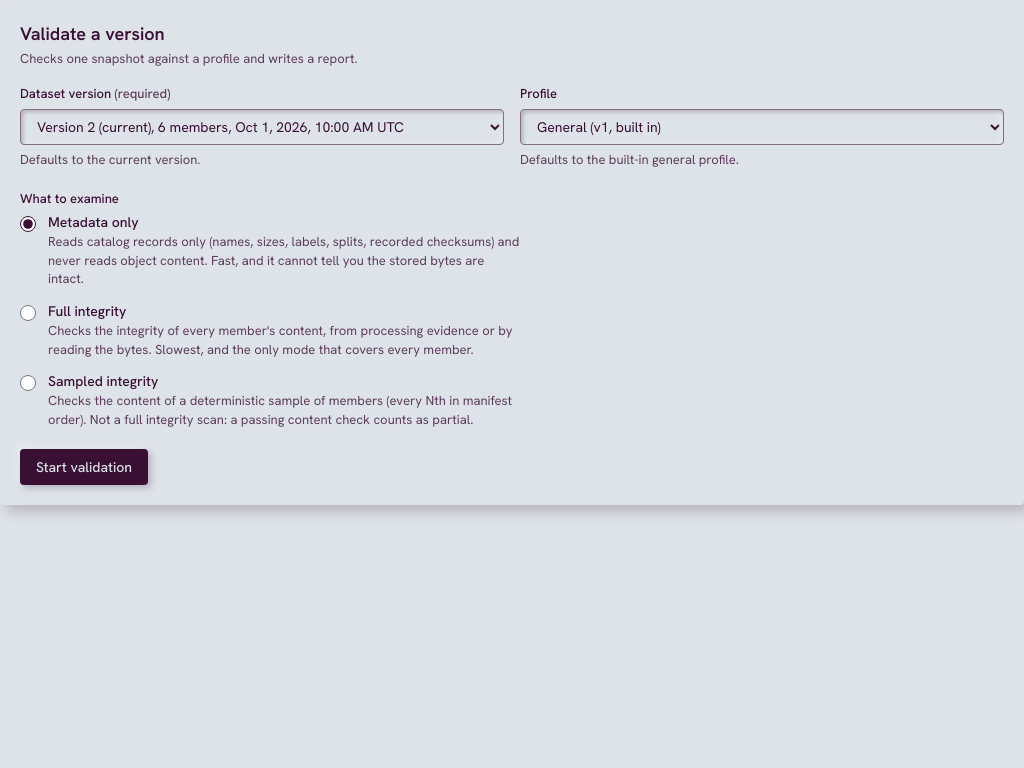
Test: StartForm › explains each mode and shows the sample size only for SAMPLED
Expected: the text "never reads object content" is shown, [48,233,519,287]
Expected: the text "integrity of every member" is shown, [48,322,512,358]
Click the radio button labelled "Sampled integrity": (28, 383) [20,375,36,391]
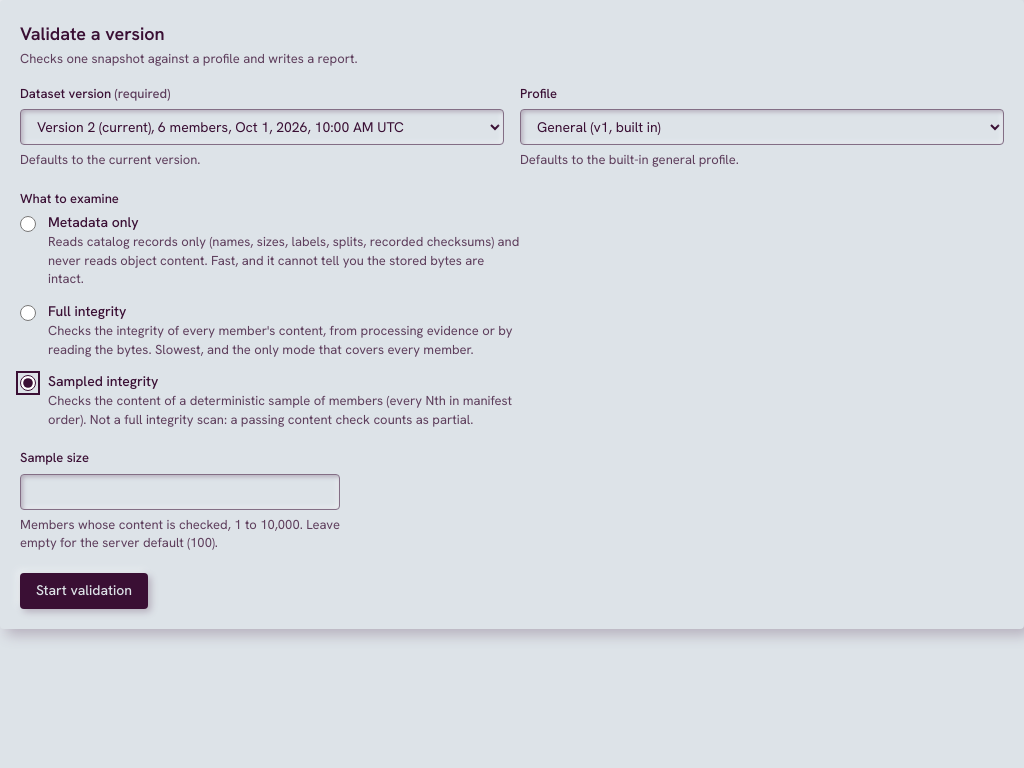
Expected: the field labelled "Sample size" is shown, [20,474,340,510]
